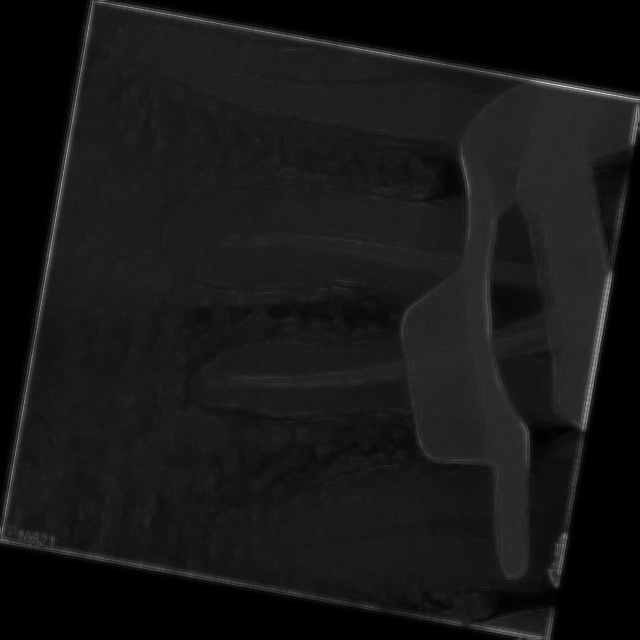Class 1- complete endodontic treatment: (86, 82, 614, 536)
